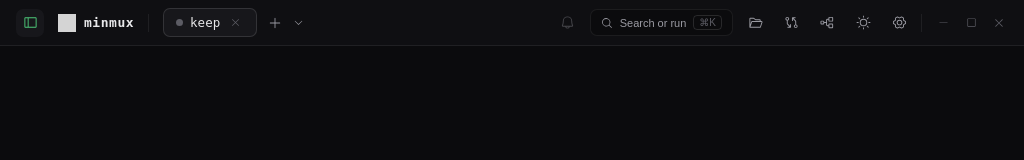
Test: TopBar — renaming a tab › an empty name keeps the old one
Double-click the element with class "tab": (210, 22) [163,8,257,37]
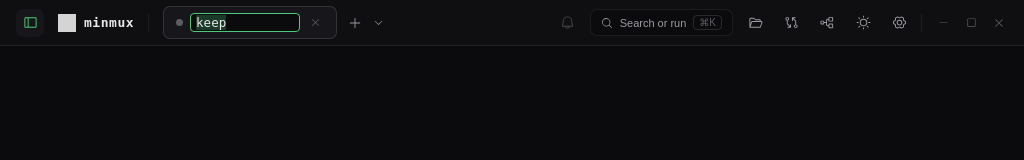
Clear the field with class "tab-rename": (245, 22) [190,13,300,32]
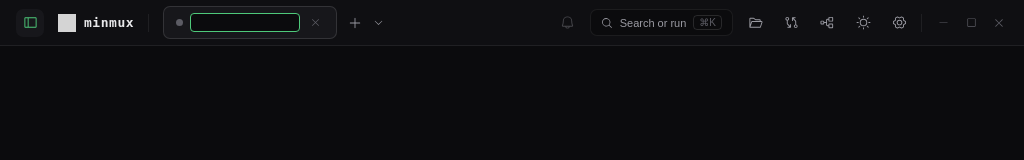
Leave the field with class "tab-rename", box [190,13,300,32]
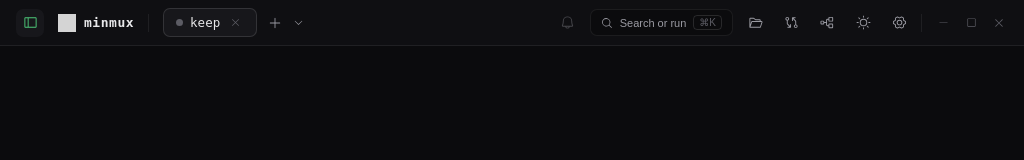
expect the text "keep" is shown: met, box [190,15,220,30]
